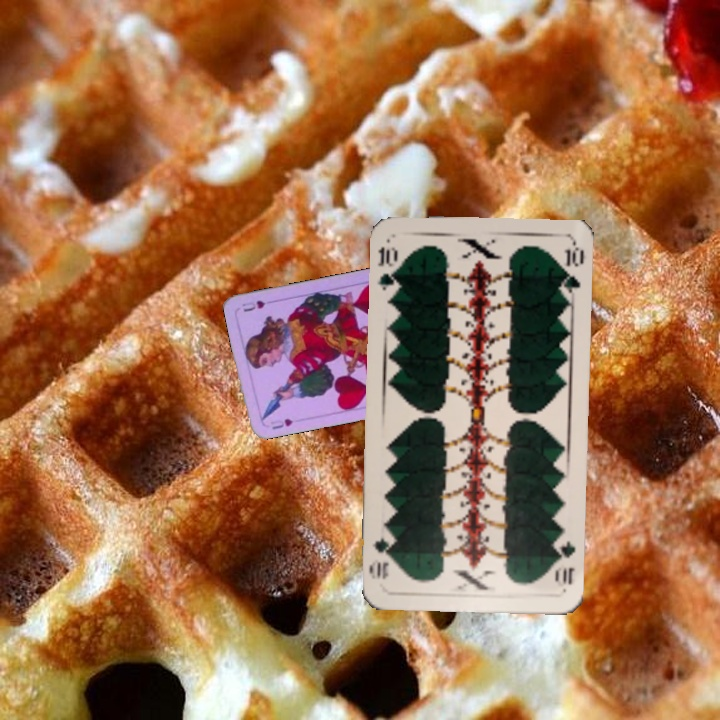G10: (373, 243, 401, 296), (551, 537, 578, 587)
HU: (266, 414, 295, 432)
